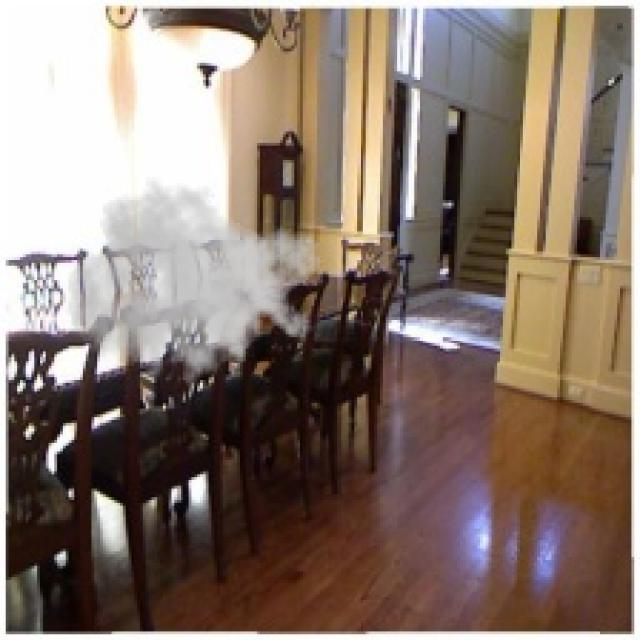smoke: (66, 171, 323, 400)
